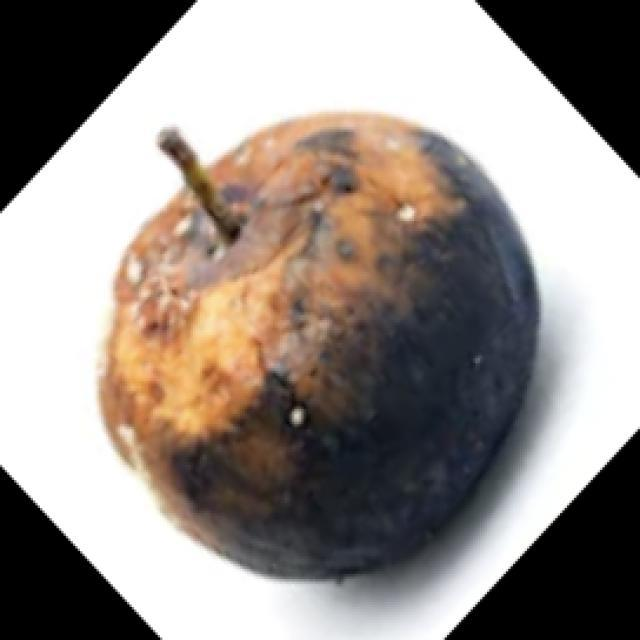Rotten: (114, 120, 528, 597)
